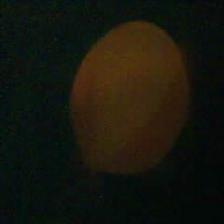fertile: (68, 19, 194, 182)
